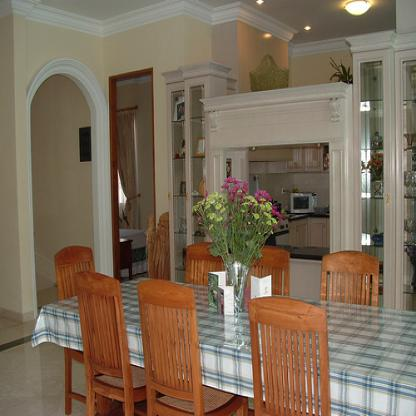chair: (136, 277, 250, 414), (73, 270, 146, 414), (247, 296, 333, 415), (52, 244, 98, 415), (320, 251, 380, 306), (246, 244, 292, 300), (184, 241, 230, 286)
diningtable: (36, 262, 415, 414)
